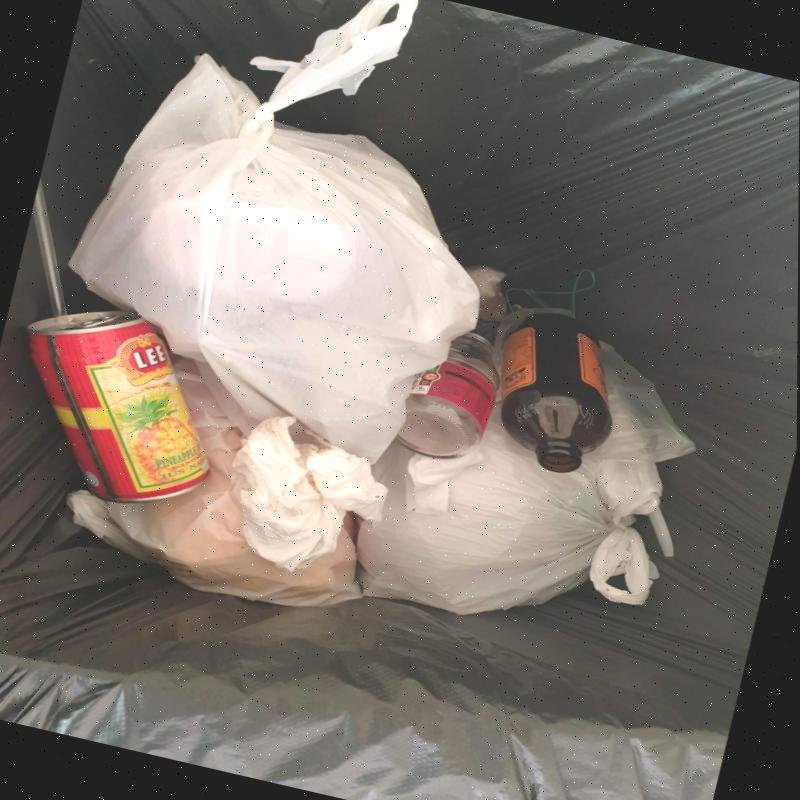aluminum: (22, 309, 209, 505)
glass bottle: (500, 313, 612, 474), (393, 332, 500, 460)
paper: (228, 416, 387, 573)
plastic bag: (66, 0, 479, 464), (355, 343, 696, 617)
plastic straw: (33, 179, 68, 328)
